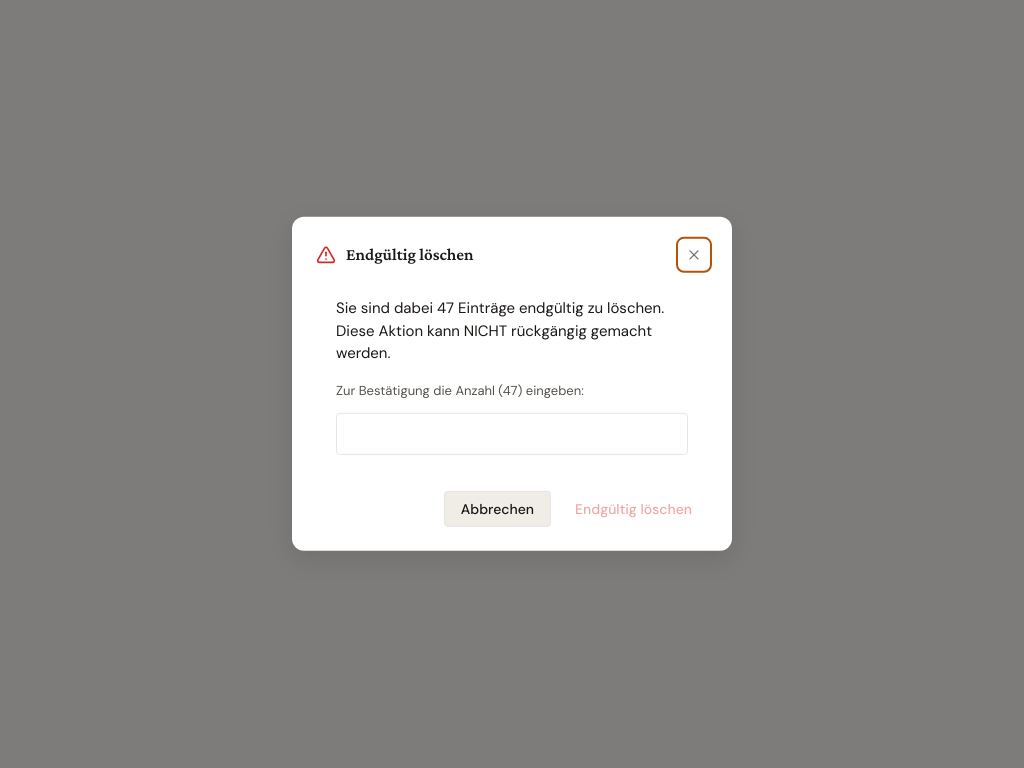
TypeToConfirmDialog › typing the exact count enables confirm + clears error
In the field with test id "type-to-confirm-input": point(512, 434) [336,413,688,455], type "47"
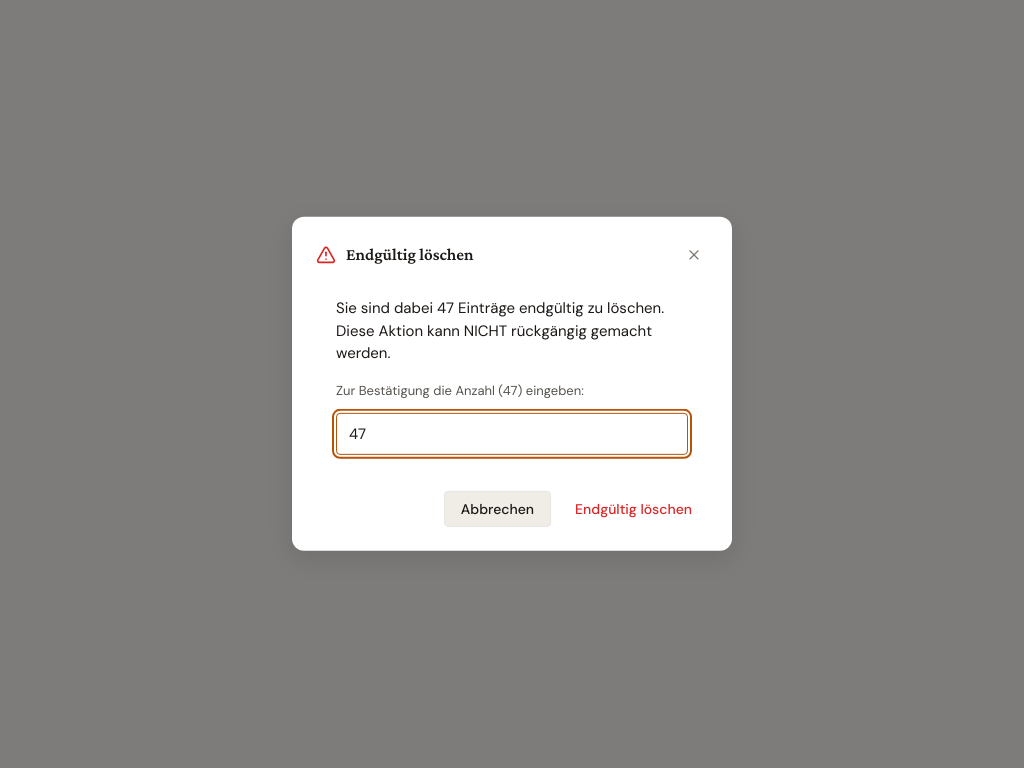
expect the button with test id "type-to-confirm-confirm" is enabled: met, box [559,491,708,527]
